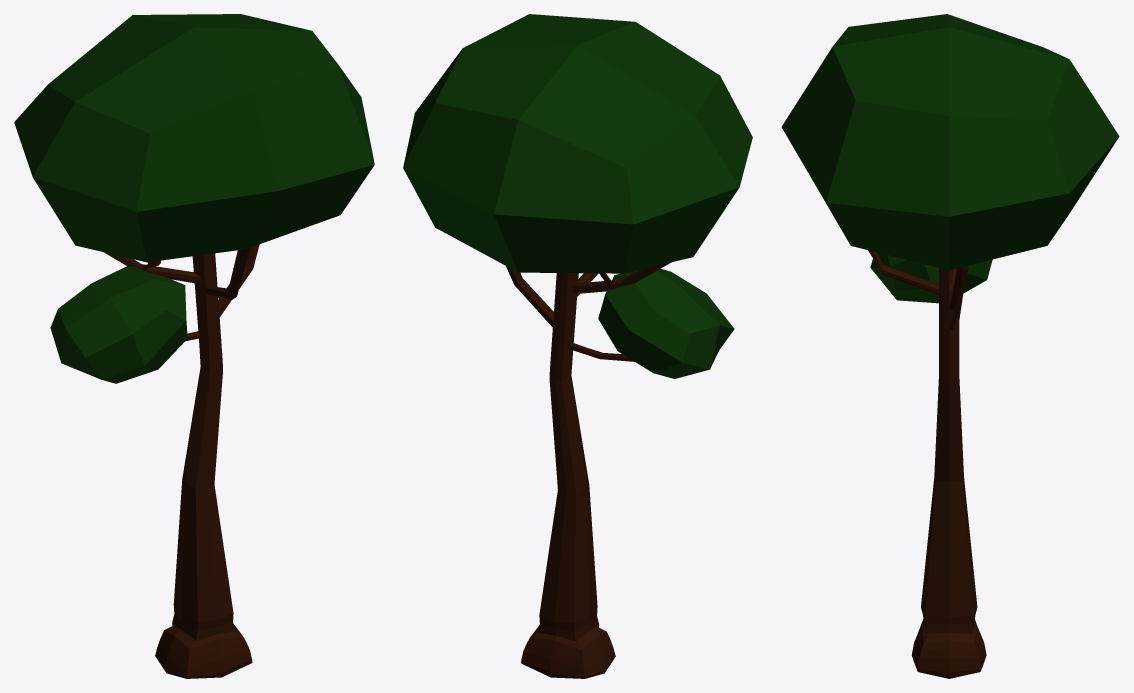
The model's file is Tree3.fbx.
3 views of the same model, side by side, from view 1: azimuth 30°, elevation 25°; view 2: azimuth 150°, elevation 25°; view 3: azimuth 270°, elevation 25° (orthographic). The views are drawn at different scales.
Visible parts, largest first — view 1: Cube; view 2: Cube; view 3: Cube.
Part boxes in pixels (bbox=[...]): Cube: bbox=[14, 14, 374, 678]; Cube: bbox=[403, 14, 752, 678]; Cube: bbox=[781, 14, 1119, 678].
Bounding box in the file's own units: 149 × 275 × 134.
